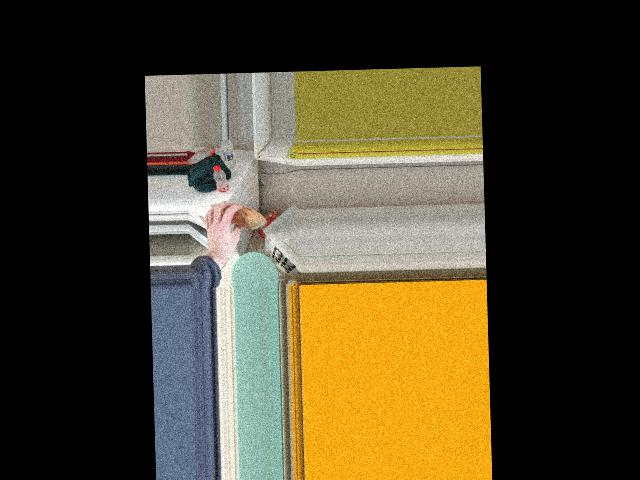sweet_potato: (207, 201, 264, 229)
